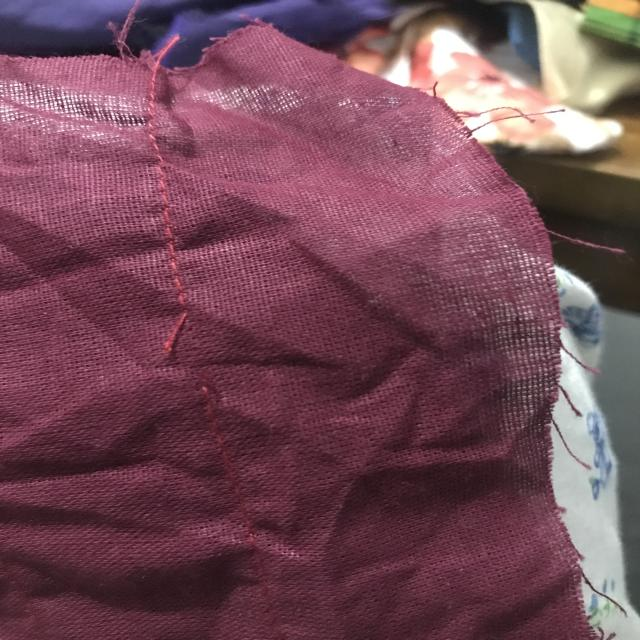broken: (142, 306, 261, 416)
